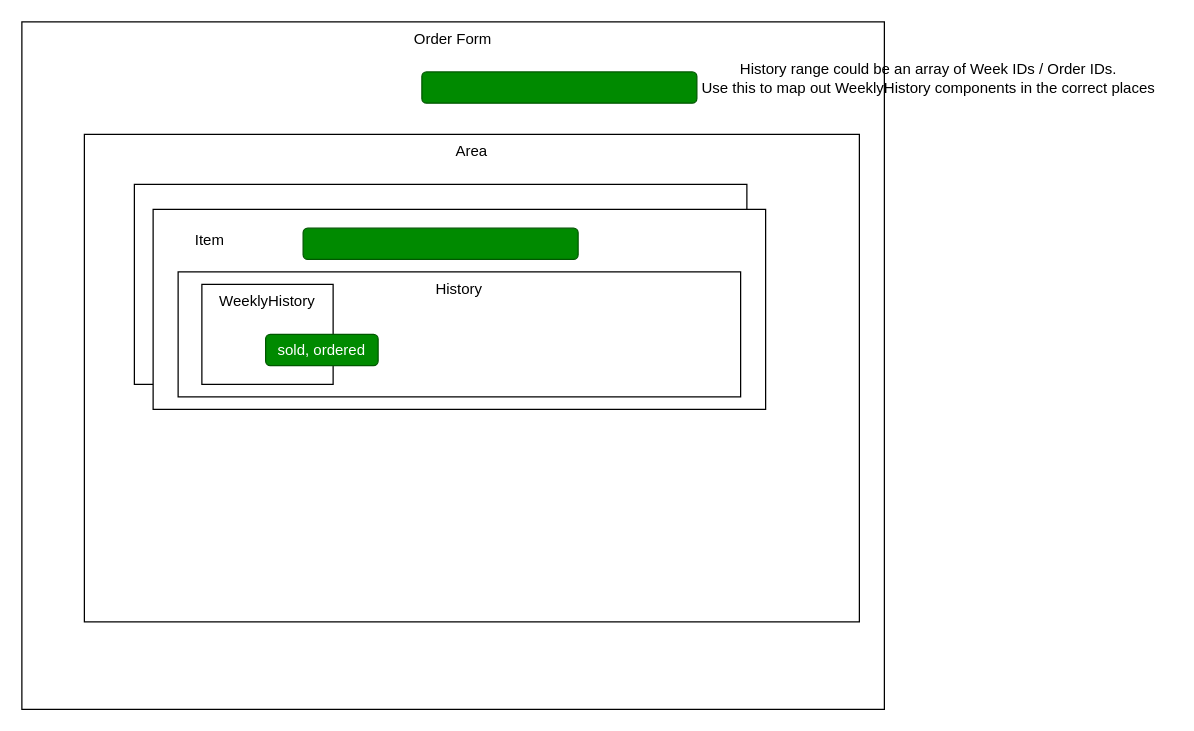
Image size: 1194x731. Some labels were removed from this diagram. The box of each missing label's shape, as (x1, y1, x2, y2) in pixels:
itemName, history[], historyRange: (302, 227, 578, 259)
items, historyRange: (421, 71, 697, 103)
